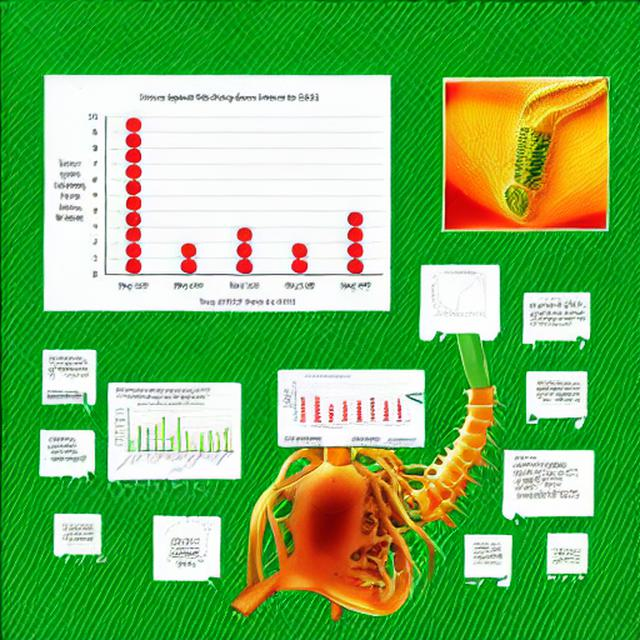Graph: (48, 86, 386, 309), (109, 400, 232, 474), (282, 374, 367, 431), (424, 268, 497, 318)
